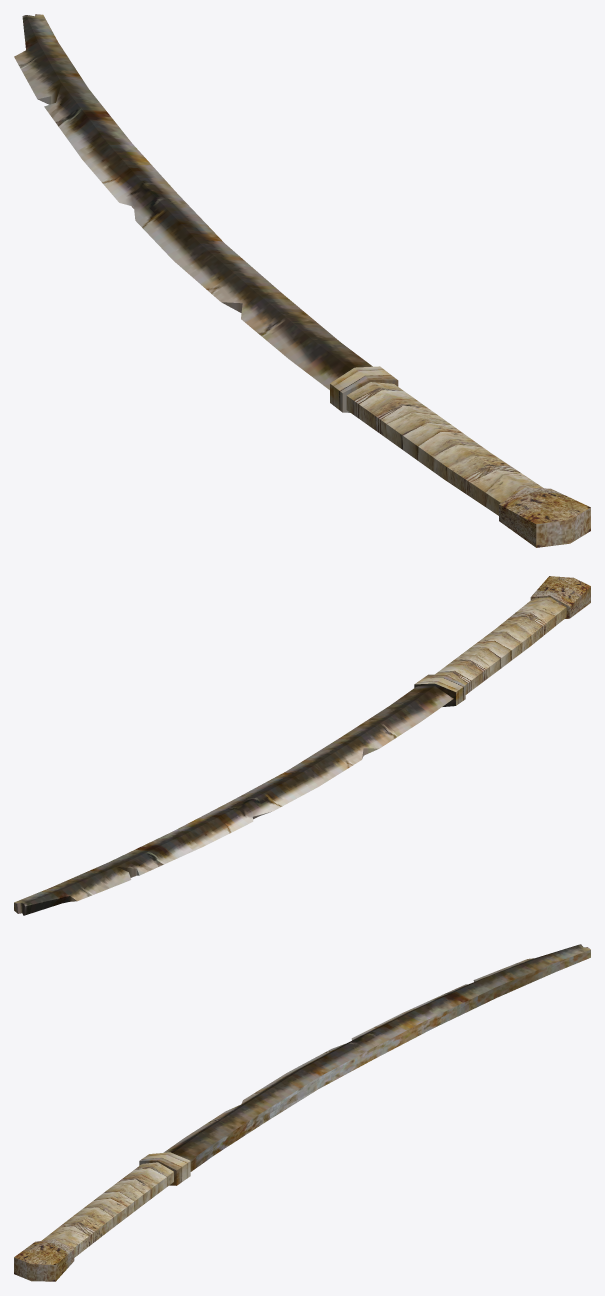
The model's file is sword_nope_double_sword_1_nope_double_sword_1.glb.
3 renders of one model, top to bottom at view 1: azimuth 30°, elevation 25°; view 2: azimuth 150°, elevation 25°; view 3: azimuth 330°, elevation 25°, orthographic. The views are drawn at different scales.
Bounding box in the file's own units: 0.1725 × 0.0342 × 1.18.
1 material, 1 textured.
